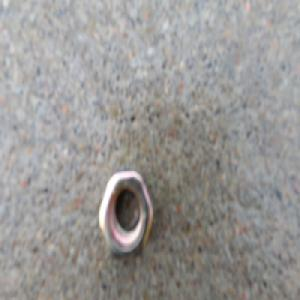Nut: (97, 166, 155, 260)
